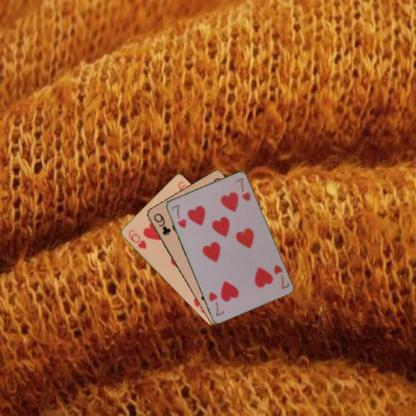6h: (126, 227, 148, 250)
7h: (271, 262, 291, 290), (168, 202, 187, 229)
9c: (150, 210, 172, 236)
